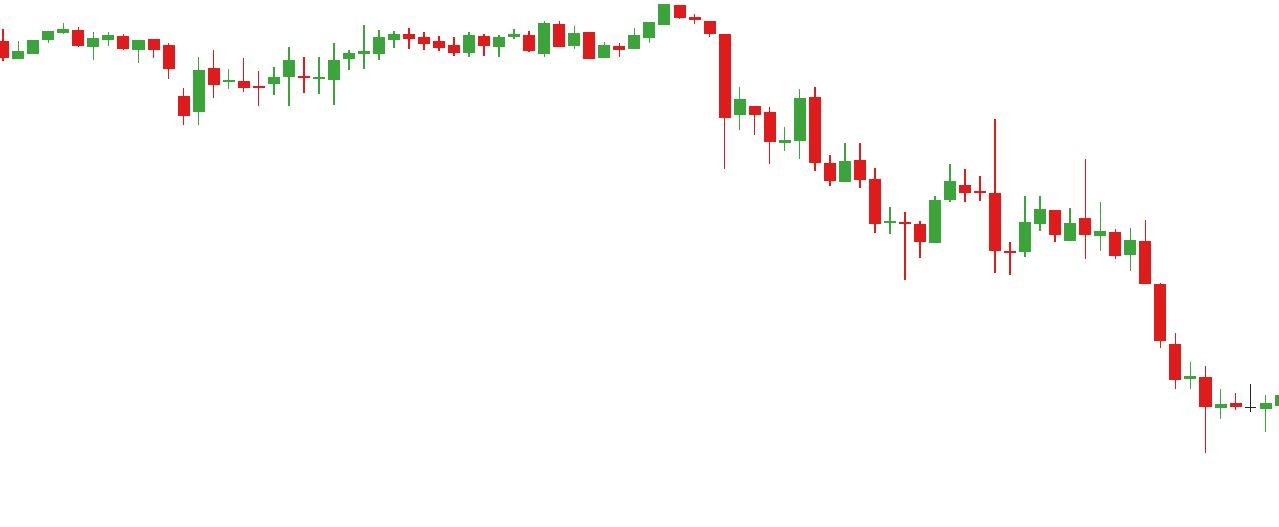sell: (1017, 162, 1095, 250)
